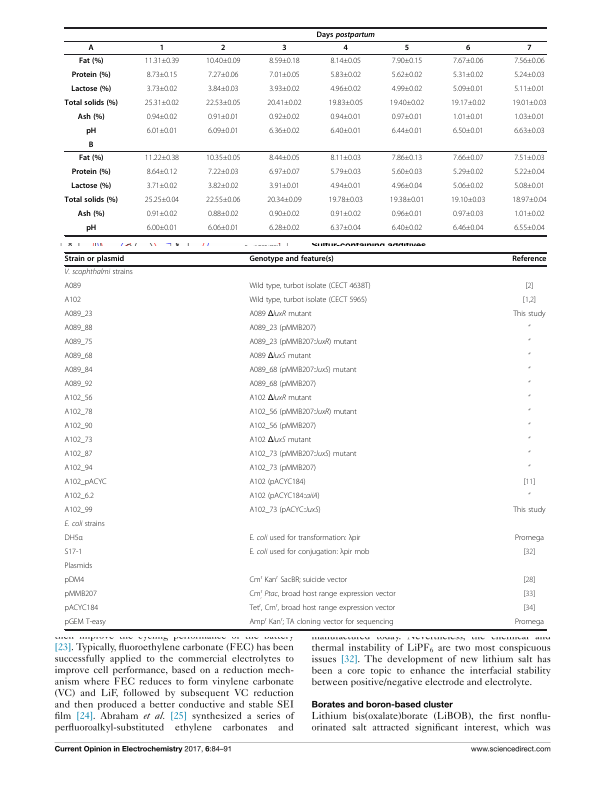borderless: (63, 251, 546, 629), (64, 26, 546, 235)
cell: (248, 588, 396, 600), (248, 602, 396, 614), (248, 616, 394, 628), (248, 282, 371, 292), (248, 548, 370, 558), (248, 296, 368, 306), (248, 574, 348, 586), (248, 534, 361, 544), (248, 338, 358, 348), (248, 408, 358, 418), (248, 366, 357, 376), (248, 450, 357, 460), (248, 255, 335, 264), (248, 506, 321, 516), (248, 492, 320, 502), (64, 268, 134, 278), (248, 324, 317, 334), (248, 380, 317, 390), (248, 422, 317, 432), (248, 464, 317, 474), (248, 310, 312, 320), (248, 352, 312, 362), (248, 394, 312, 404), (248, 436, 312, 446), (248, 478, 306, 488), (64, 98, 119, 108), (64, 195, 119, 205), (64, 255, 125, 264), (316, 30, 376, 39), (64, 478, 108, 488), (64, 618, 107, 628), (64, 520, 106, 530), (70, 84, 112, 94), (70, 181, 112, 191), (71, 70, 111, 80), (71, 167, 111, 177), (64, 604, 99, 614), (512, 310, 546, 320), (512, 506, 546, 516), (64, 590, 98, 600), (511, 255, 547, 264), (64, 492, 95, 502), (514, 534, 545, 544), (514, 618, 545, 628), (64, 310, 93, 320), (64, 324, 93, 334), (64, 338, 93, 348), (64, 352, 93, 362), (64, 366, 93, 376), (64, 380, 93, 390), (64, 394, 93, 404), (64, 408, 93, 418), (64, 422, 93, 432), (64, 436, 93, 446), (64, 450, 93, 460), (64, 464, 93, 474), (64, 506, 93, 516), (64, 562, 93, 572), (77, 112, 105, 122), (77, 209, 105, 219), (78, 56, 104, 66), (78, 153, 104, 163), (144, 57, 180, 64), (205, 57, 241, 64), (144, 99, 180, 106), (205, 99, 241, 106), (266, 99, 302, 106), (328, 99, 364, 106), (389, 99, 425, 106), (450, 99, 486, 106), (511, 99, 547, 106), (144, 154, 180, 161), (205, 154, 241, 161), (144, 196, 180, 203), (205, 196, 241, 203), (266, 196, 302, 203), (328, 196, 364, 203), (389, 196, 425, 203), (450, 196, 486, 203), (511, 196, 547, 203), (268, 57, 301, 64), (329, 57, 362, 64), (513, 57, 546, 64), (268, 71, 301, 78), (329, 71, 362, 78), (513, 71, 546, 78), (268, 85, 301, 92), (329, 85, 362, 92), (513, 85, 546, 92), (268, 113, 301, 120), (329, 113, 362, 120), (513, 113, 546, 120), (268, 127, 301, 134), (329, 127, 362, 134), (513, 127, 546, 134), (268, 154, 301, 161), (329, 154, 362, 161), (513, 154, 546, 161), (268, 168, 301, 175), (329, 168, 362, 175), (513, 168, 546, 175), (268, 182, 301, 189), (329, 182, 362, 189), (513, 182, 546, 189), (268, 210, 301, 217), (329, 210, 362, 217), (513, 210, 546, 217), (268, 224, 301, 231), (329, 224, 362, 231), (513, 224, 546, 231), (391, 57, 423, 64), (452, 57, 484, 64), (146, 71, 178, 78), (207, 71, 239, 78), (391, 71, 423, 78), (452, 71, 484, 78), (146, 85, 178, 92), (207, 85, 239, 92), (391, 85, 423, 92), (452, 85, 484, 92), (146, 113, 178, 120), (207, 113, 239, 120), (391, 113, 423, 120), (452, 113, 484, 120), (146, 127, 178, 134), (207, 127, 239, 134), (391, 127, 423, 134), (452, 127, 484, 134), (391, 154, 423, 161), (452, 154, 484, 161), (146, 168, 178, 175), (207, 168, 239, 175), (391, 168, 423, 175), (452, 168, 484, 175), (146, 182, 178, 189), (207, 182, 239, 189), (391, 182, 423, 189), (452, 182, 484, 189), (146, 210, 178, 217), (207, 210, 239, 217), (391, 210, 423, 217), (452, 210, 484, 217), (146, 224, 178, 231), (207, 224, 239, 231), (391, 224, 423, 231), (452, 224, 484, 231), (64, 576, 85, 586), (64, 534, 84, 544), (64, 548, 83, 558), (64, 282, 82, 292), (64, 296, 82, 306), (522, 296, 537, 306), (522, 478, 536, 488), (522, 548, 536, 558), (522, 576, 536, 586), (522, 590, 536, 600), (522, 604, 536, 614), (85, 126, 97, 136), (85, 223, 97, 233), (524, 282, 534, 292), (88, 43, 95, 53), (342, 43, 349, 53), (159, 43, 165, 53), (220, 43, 226, 53), (281, 43, 287, 53), (404, 43, 410, 53), (465, 43, 471, 53), (526, 43, 532, 53), (88, 140, 94, 150), (527, 324, 531, 332), (527, 338, 531, 346), (527, 352, 531, 360), (527, 366, 531, 374), (527, 380, 531, 388), (527, 394, 531, 402), (527, 408, 531, 416), (527, 422, 531, 430), (527, 436, 531, 444), (527, 450, 531, 458), (527, 464, 531, 472), (527, 492, 531, 500)
